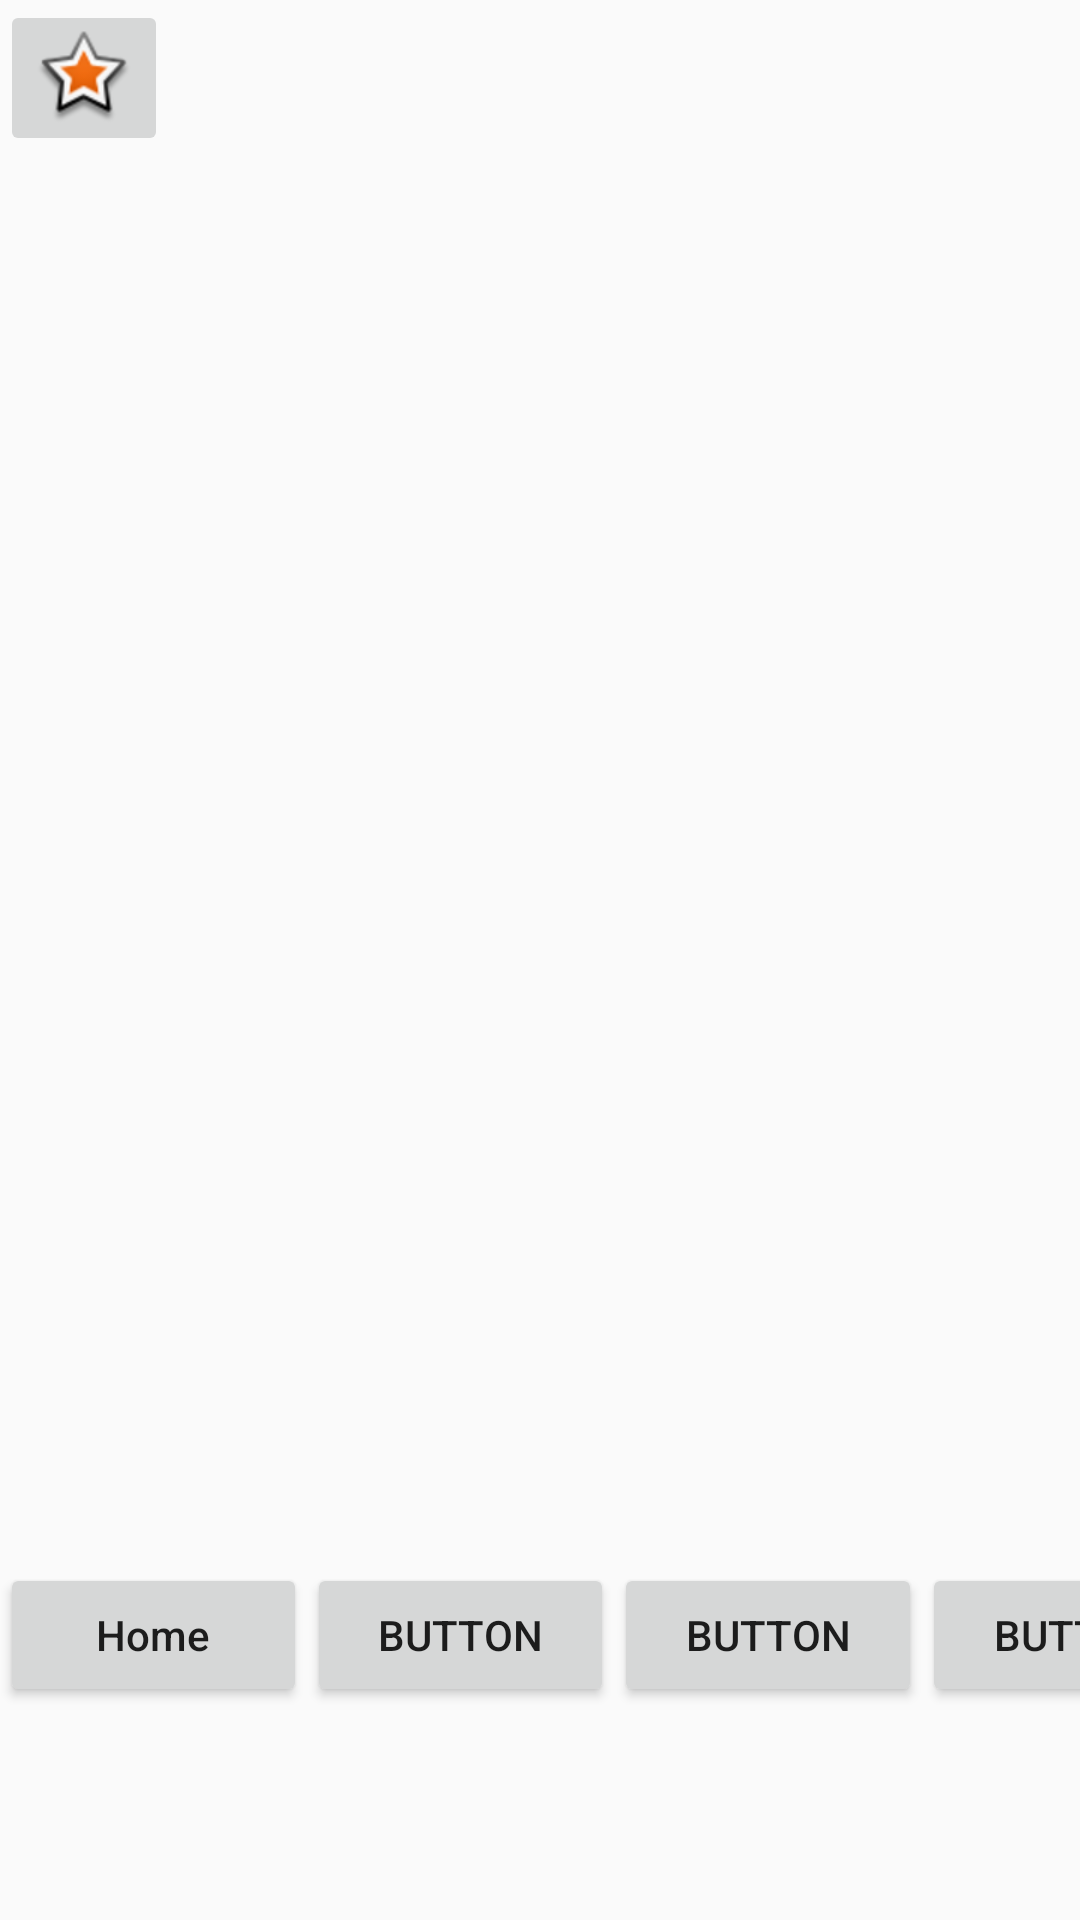

Icon click points for this 1080×1920 phone screenshot, format point (x, y):
star on: point (84, 78)
